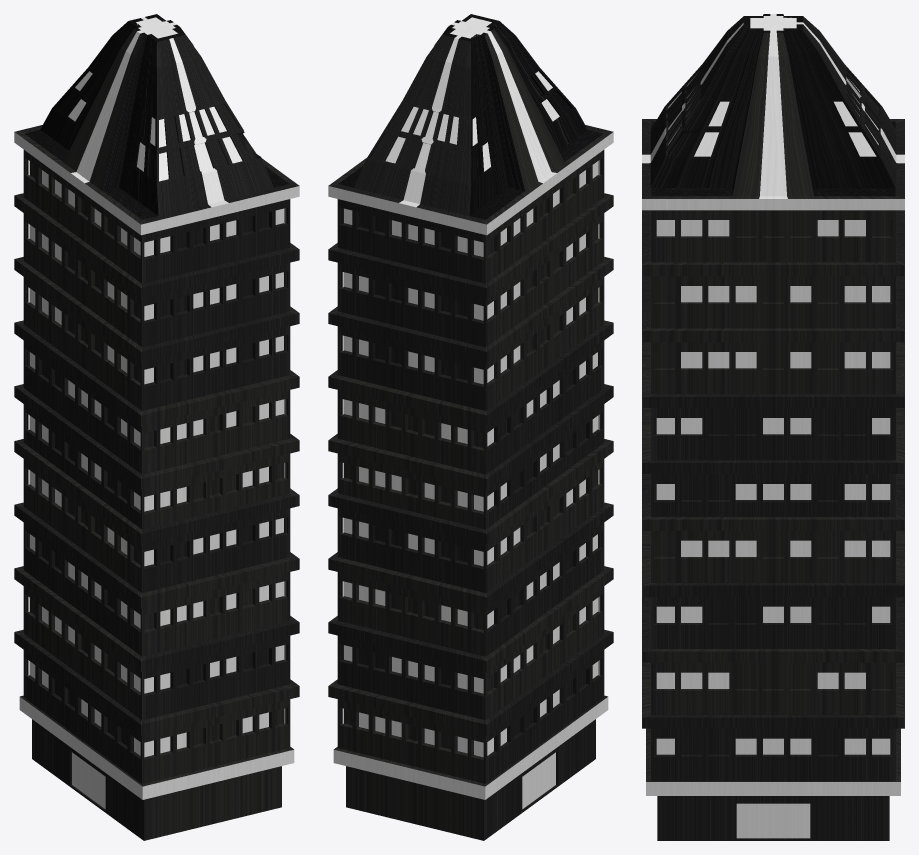
Rendered from torre_helicoptero_tres.obj.
3 views of the same model, side by side, from view 1: azimuth 30°, elevation 25°; view 2: azimuth 150°, elevation 25°; view 3: azimuth 270°, elevation 25° (orthographic). The views are drawn at different scales.
Parts seen in each view (by area): view 1: Plane_013, Object017, Plane_012, Object018; view 2: Plane_013, Object017, Plane_012, Object018; view 3: Plane_013, Object017, Plane_012, Object018.
Part boxes in pixels (x1=…): Plane_013: x1=14, y1=14, x2=299, y2=783; Object017: x1=14, y1=17, x2=299, y2=757; Plane_012: x1=20, y1=695, x2=293, y2=840; Object018: x1=19, y1=697, x2=294, y2=808; Plane_013: x1=328, y1=14, x2=613, y2=783; Object017: x1=328, y1=17, x2=613, y2=757; Plane_012: x1=334, y1=695, x2=607, y2=840; Object018: x1=333, y1=697, x2=608, y2=808; Plane_013: x1=642, y1=14, x2=904, y2=780; Object017: x1=642, y1=14, x2=904, y2=754; Plane_012: x1=646, y1=728, x2=900, y2=840; Object018: x1=646, y1=782, x2=900, y2=838.
Size of the model in its own units: 11.41 by 51.9 by 15.8.
2 materials, 2 textured.
